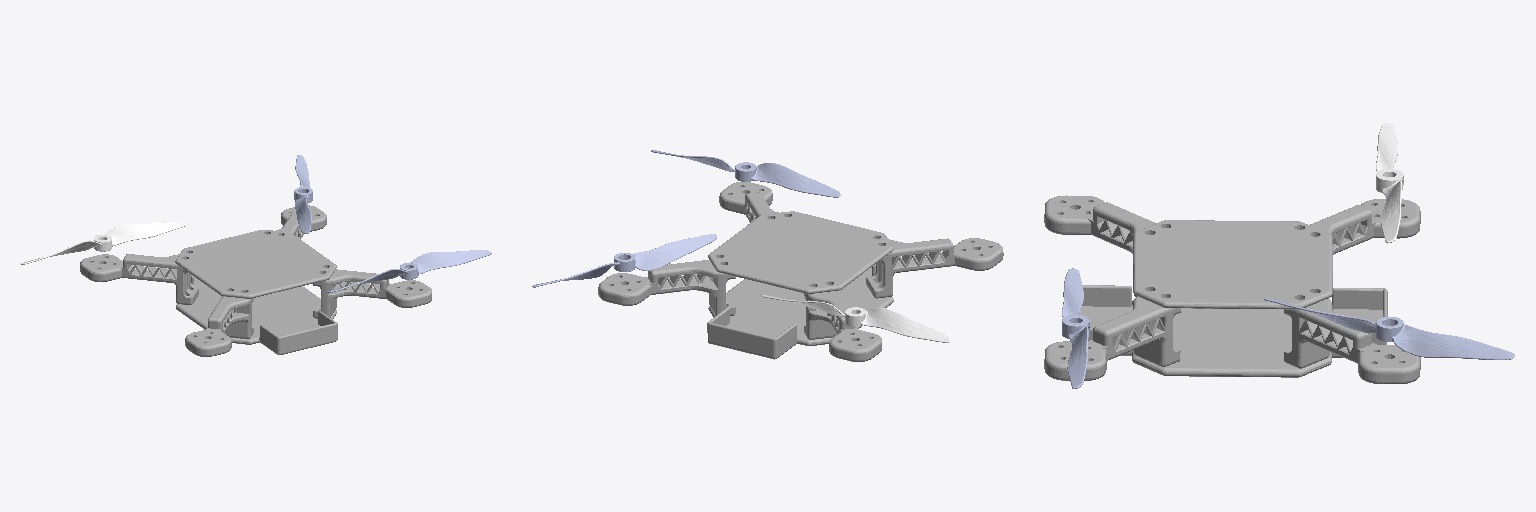
The robot description file, URDF, robot "frame_v2_asm":
<?xml version="1.0" encoding="utf-8"?>
<!-- This URDF was automatically created by SolidWorks to URDF Exporter! Originally created by [author] ([email redacted]) 
     Commit Version: 1.6.0-1-g15f4949  Build Version: 1.6.7594.29634
     For more information, please see http://wiki.ros.org/sw_urdf_exporter -->
<robot
  name="frame_v2_asm">
  <link
    name="base_link">
    <inertial>
      <origin
        xyz="-0.00245121335565307 -0.00868815855723926 -0.00878255265547251"
        rpy="0 0 0" />
      <mass
        value="0.141104260786142" />
      <inertia
        ixx="9.58423286647586E-05"
        ixy="-2.86558134175861E-09"
        ixz="-5.84101730409658E-09"
        iyy="0.000147911233408732"
        iyz="-1.07357255619366E-06"
        izz="5.80764509048022E-05" />
    </inertial>
    <visual>
      <origin
        xyz="0 0 0"
        rpy="0 0 0" />
      <geometry>
        <mesh
          filename="package://frame_v2_asm/meshes/base_link.STL" />
      </geometry>
      <material
        name="">
        <color
          rgba="0.752941176470588 0.752941176470588 0.752941176470588 1" />
      </material>
    </visual>
    <collision>
      <origin
        xyz="0 0 0"
        rpy="0 0 0" />
      <geometry>
        <mesh
          filename="package://frame_v2_asm/meshes/base_link.STL" />
      </geometry>
    </collision>
  </link>
  <link
    name="Link_1">
    <inertial>
      <origin
        xyz="3.2072E-07 0.0042783 -1.4373E-07"
        rpy="0 0 0" />
      <mass
        value="0.0017578" />
      <inertia
        ixx="2.4709E-08"
        ixy="-1.4479E-12"
        ixz="4.0373E-08"
        iyy="1.3863E-06"
        iyz="1.1197E-12"
        izz="1.3791E-06" />
    </inertial>
    <visual>
      <origin
        xyz="0 0 0"
        rpy="0 0 0" />
      <geometry>
        <mesh
          filename="package://frame_v2_asm/meshes/Link_1.STL" />
      </geometry>
      <material
        name="">
        <color
          rgba="0.79216 0.81961 0.93333 1" />
      </material>
    </visual>
    <collision>
      <origin
        xyz="0 0 0"
        rpy="0 0 0" />
      <geometry>
        <mesh
          filename="package://frame_v2_asm/meshes/Link_1.STL" />
      </geometry>
    </collision>
  </link>
  <joint
    name="Prop_1"
    type="revolute">
    <origin
      xyz="-0.080221 -0.061832 0.008502"
      rpy="1.5588 0 0" />
    <parent
      link="base_link" />
    <child
      link="Link_1" />
    <axis
      xyz="0 1 0" />
    <limit
      lower="-3.14"
      upper="3.14"
      effort="0"
      velocity="0" />
  </joint>
  <link
    name="Link_2">
    <inertial>
      <origin
        xyz="3.2072E-07 0.0042783 -1.4373E-07"
        rpy="0 0 0" />
      <mass
        value="0.0017578" />
      <inertia
        ixx="2.4709E-08"
        ixy="-1.4479E-12"
        ixz="4.0373E-08"
        iyy="1.3863E-06"
        iyz="1.1197E-12"
        izz="1.3791E-06" />
    </inertial>
    <visual>
      <origin
        xyz="0 0 0"
        rpy="0 0 0" />
      <geometry>
        <mesh
          filename="package://frame_v2_asm/meshes/Link_2.STL" />
      </geometry>
      <material
        name="">
        <color
          rgba="0.79216 0.81961 0.93333 1" />
      </material>
    </visual>
    <collision>
      <origin
        xyz="0 0 0"
        rpy="0 0 0" />
      <geometry>
        <mesh
          filename="package://frame_v2_asm/meshes/Link_2.STL" />
      </geometry>
    </collision>
  </link>
  <joint
    name="Prop_2"
    type="revolute">
    <origin
      xyz="0.075342 -0.061832 0.008502"
      rpy="1.5588 0 0" />
    <parent
      link="base_link" />
    <child
      link="Link_2" />
    <axis
      xyz="0 1 0" />
    <limit
      lower="-3.14"
      upper="3.14"
      effort="0"
      velocity="0" />
  </joint>
  <link
    name="Link_3">
    <inertial>
      <origin
        xyz="2.9874E-07 0.0042783 -1.4713E-07"
        rpy="0 0 0" />
      <mass
        value="0.0017578" />
      <inertia
        ixx="2.4709E-08"
        ixy="-1.4714E-12"
        ixz="4.0373E-08"
        iyy="1.3863E-06"
        iyz="1.1066E-12"
        izz="1.3791E-06" />
    </inertial>
    <visual>
      <origin
        xyz="0 0 0"
        rpy="0 0 0" />
      <geometry>
        <mesh
          filename="package://frame_v2_asm/meshes/Link_3.STL" />
      </geometry>
      <material
        name="">
        <color
          rgba="0.79216 0.81961 0.93333 1" />
      </material>
    </visual>
    <collision>
      <origin
        xyz="0 0 0"
        rpy="0 0 0" />
      <geometry>
        <mesh
          filename="package://frame_v2_asm/meshes/Link_3.STL" />
      </geometry>
    </collision>
  </link>
  <joint
    name="Prop_3"
    type="revolute">
    <origin
      xyz="0.075342 0.079769 0.014502"
      rpy="-1.5653 -0.01064 -2.0478" />
    <parent
      link="base_link" />
    <child
      link="Link_3" />
    <axis
      xyz="0 1 0" />
    <limit
      lower="-3.14"
      upper="3.14"
      effort="0"
      velocity="0" />
  </joint>
  <link
    name="Link_4">
    <inertial>
      <origin
        xyz="0 0 0"
        rpy="0 0 0" />
      <mass
        value="0" />
      <inertia
        ixx="0"
        ixy="0"
        ixz="0"
        iyy="0"
        iyz="0"
        izz="0" />
    </inertial>
    <visual>
      <origin
        xyz="0 0 0"
        rpy="0 0 0" />
      <geometry>
        <mesh
          filename="package://frame_v2_asm/meshes/Link_4.STL" />
      </geometry>
      <material
        name="">
        <color
          rgba="1 1 1 1" />
      </material>
    </visual>
    <collision>
      <origin
        xyz="0 0 0"
        rpy="0 0 0" />
      <geometry>
        <mesh
          filename="package://frame_v2_asm/meshes/Link_4.STL" />
      </geometry>
    </collision>
  </link>
  <joint
    name="Prop_4"
    type="revolute">
    <origin
      xyz="-0.080221 0.079578 0.008502"
      rpy="1.5828 4.3744E-05 3.1379" />
    <parent
      link="base_link" />
    <child
      link="Link_4" />
    <axis
      xyz="0 1 0" />
    <limit
      lower="-3.14"
      upper="3.14"
      effort="0"
      velocity="0" />
  </joint>
</robot>

--- Facts derived from the render (not from the file) ---
The picture shows the robot from 3 angles, left to right: view 1: azimuth 30°, elevation 25°; view 2: azimuth 150°, elevation 25°; view 3: azimuth 270°, elevation 25°; orthographic projection.
Model frame_v2_asm with 5 links and 4 joints (4 revolute), rooted at base_link, posed every joint at zero.
Visible links, largest first — view 1: base_link, Link_2, Link_4, Link_3; view 2: base_link, Link_2, Link_4, Link_3; view 3: base_link, Link_3, Link_2, Link_4.
Boxes of the visible links, x1,y1,x2,y2 form: base_link: (80, 205, 431, 356); Link_2: (327, 250, 491, 292); Link_4: (21, 222, 184, 264); Link_3: (294, 155, 312, 233); base_link: (598, 182, 1003, 361); Link_2: (651, 150, 840, 197); Link_4: (761, 295, 949, 342); Link_3: (532, 234, 716, 287); base_link: (1044, 195, 1420, 383); Link_3: (1264, 298, 1514, 359); Link_2: (1062, 268, 1089, 388); Link_4: (1376, 123, 1403, 243).
Bounding box of the posed robot: 0.2826 × 0.2122 × 0.049 m (x, y, z).
Meshes: 5 distinct files referenced, 4 mesh visuals loaded (4 binary STL); not drawn: 1 (reference not matched to a file when rendering).